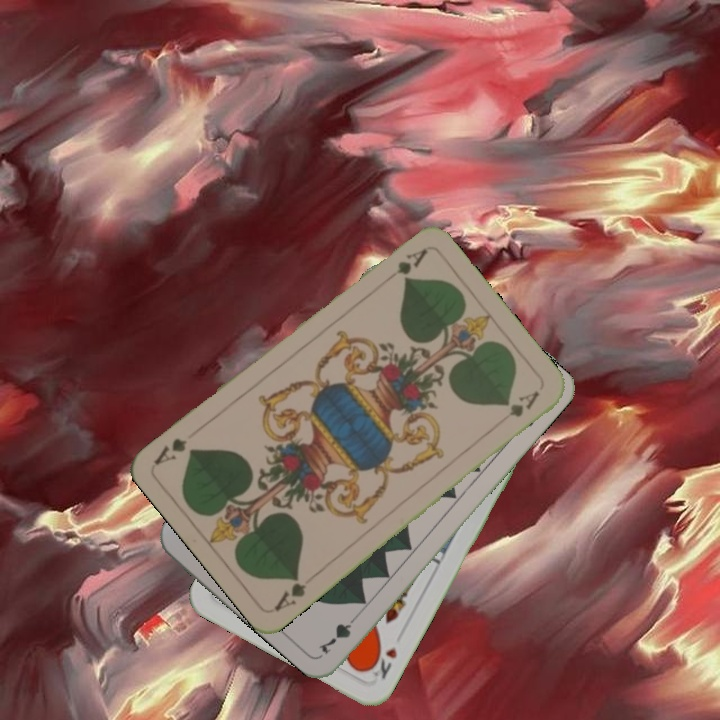G7: (314, 608, 363, 657)
GA: (379, 244, 430, 287), (269, 571, 309, 615)
HK: (363, 643, 400, 682)
